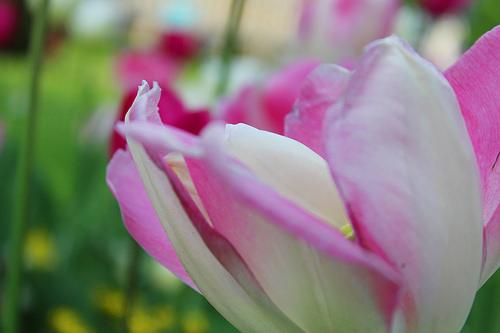tulip: (105, 26, 500, 333)
